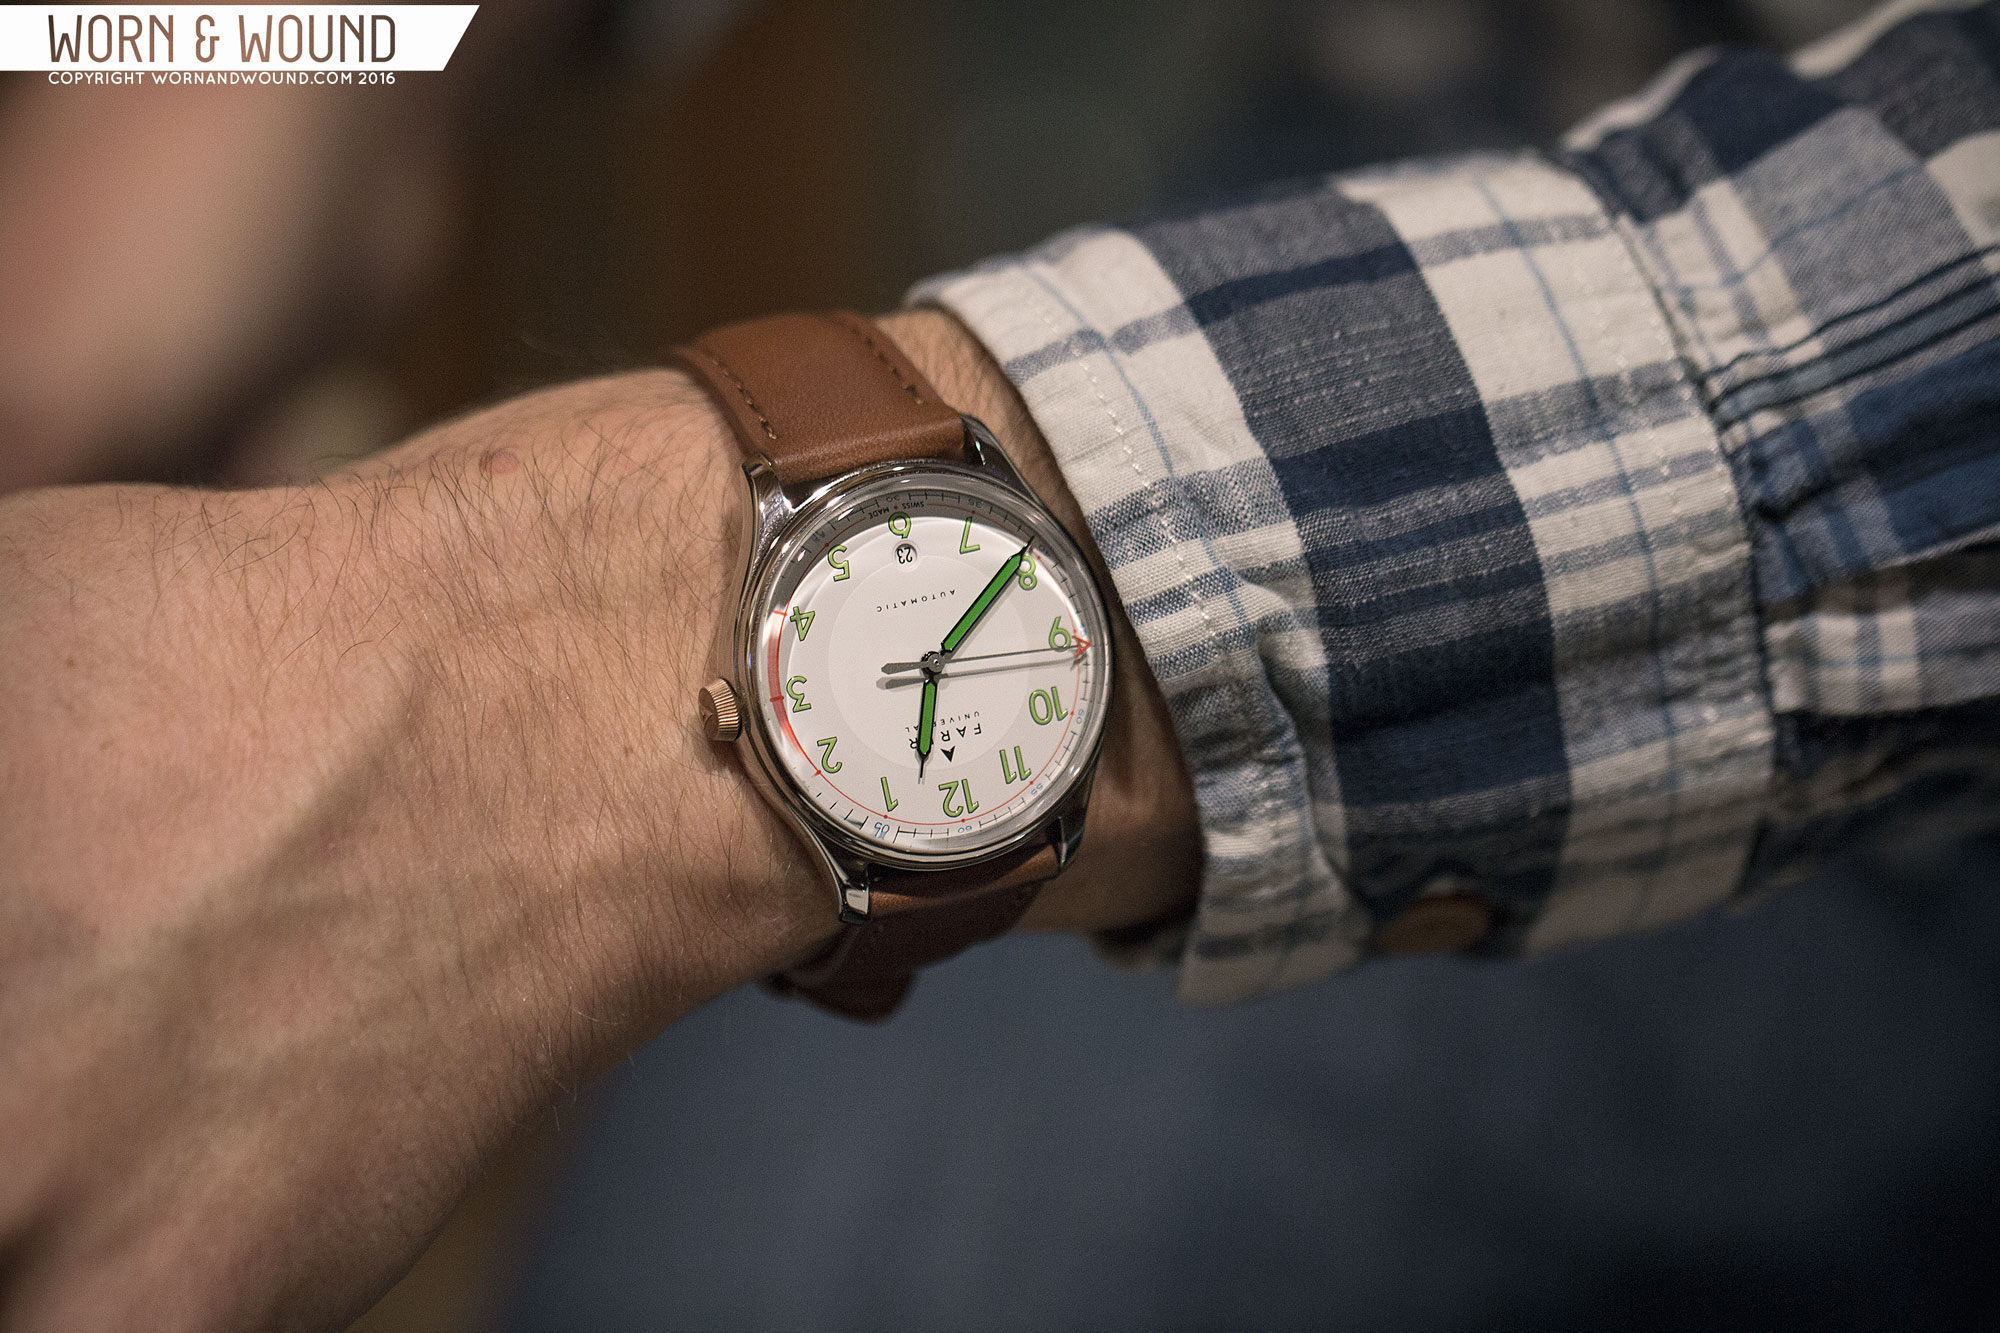clock: (755, 476, 1112, 866)
